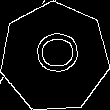O_W: (29, 34, 80, 80)
